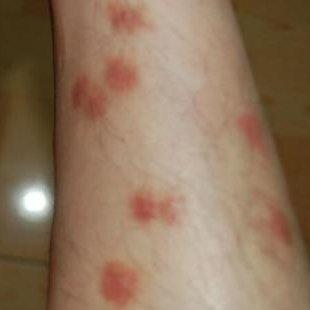Fleas: (62, 73, 115, 124), (235, 108, 277, 163), (254, 196, 294, 253), (127, 191, 179, 229), (100, 261, 138, 306), (102, 55, 139, 96)
